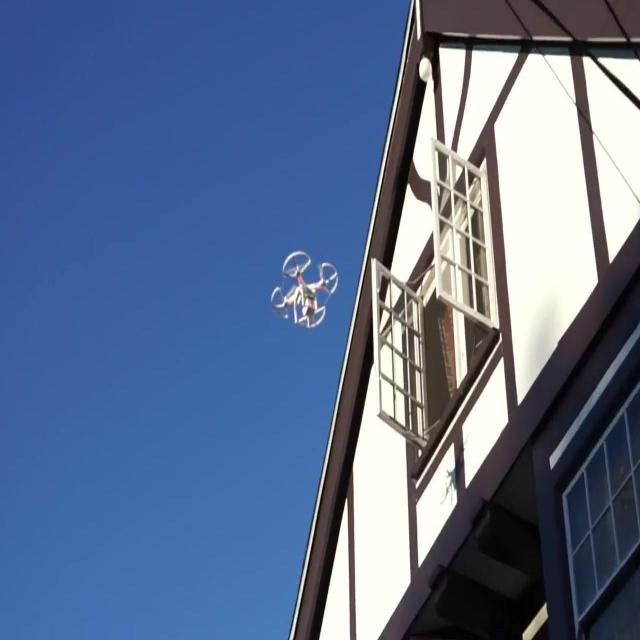UAV: (270, 250, 338, 330)
